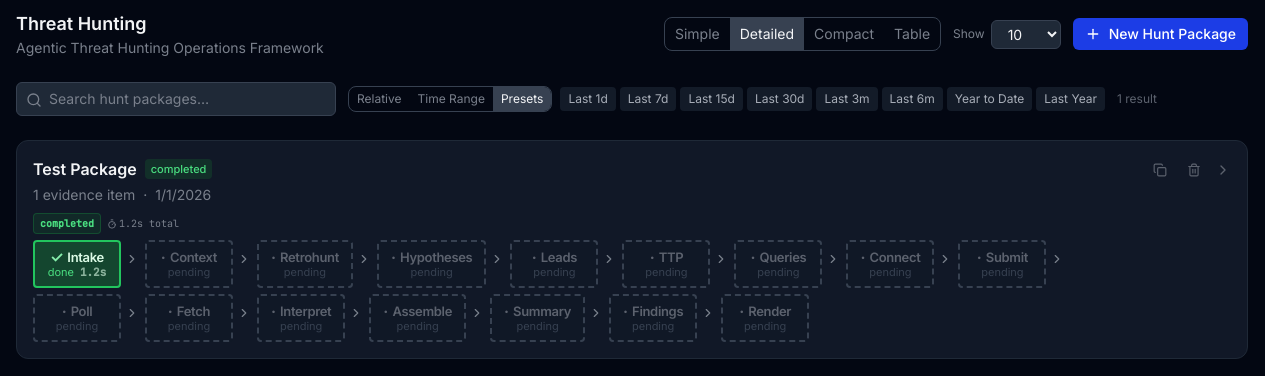
it: ThreatHunting list — density toggle + run chips (issue-local-016) › shows the stage rail in detailed mode and hides it in compact mode
Expected: the text "Test Package" is shown, [33,157,137,181]
Expected: the text "Intake" is shown, [67,251,104,264]
Click the button "Compact" at (844, 34), box [804,18,884,50]
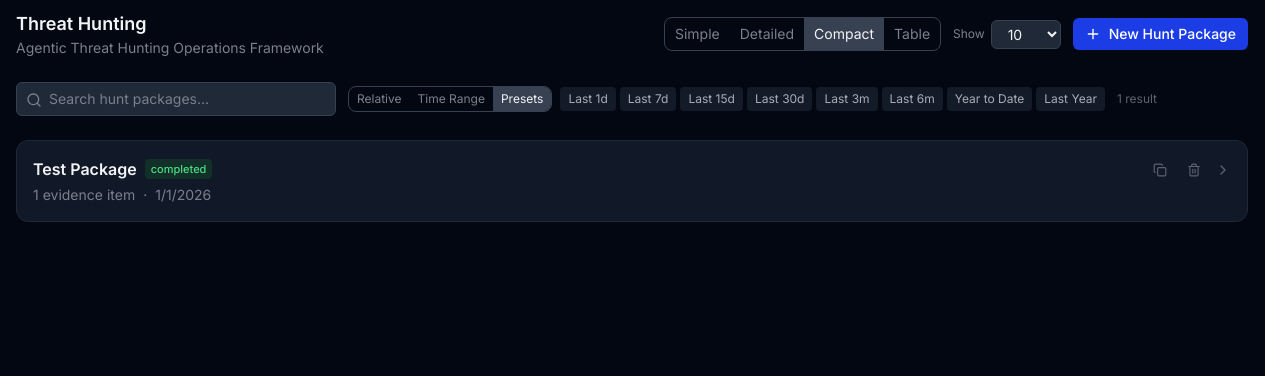
Expected: the text "Intake" is gone
